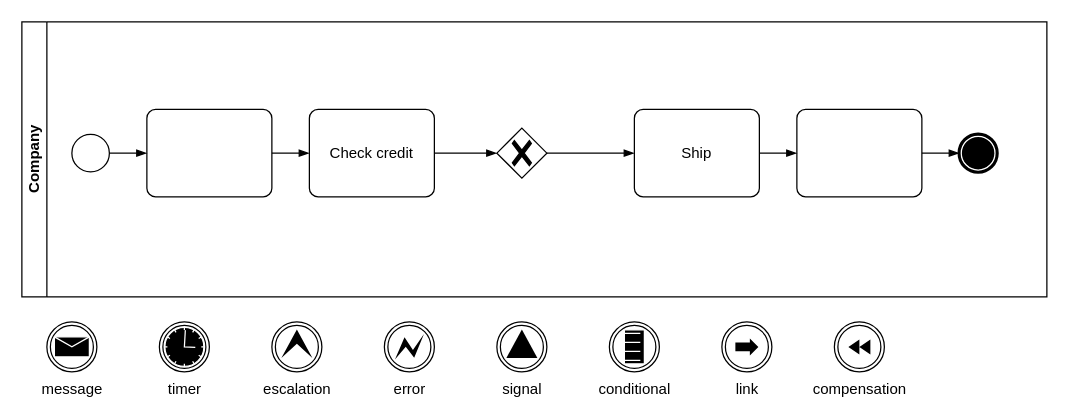
This 1069x420 diagram has some shape labels left out. The centre of each missing label's shape, as x and y in pixels:
"Approve?" belongs at [521,152].
"Invoice" belongs at [859,152].
"Receive order" belongs at [209,152].
